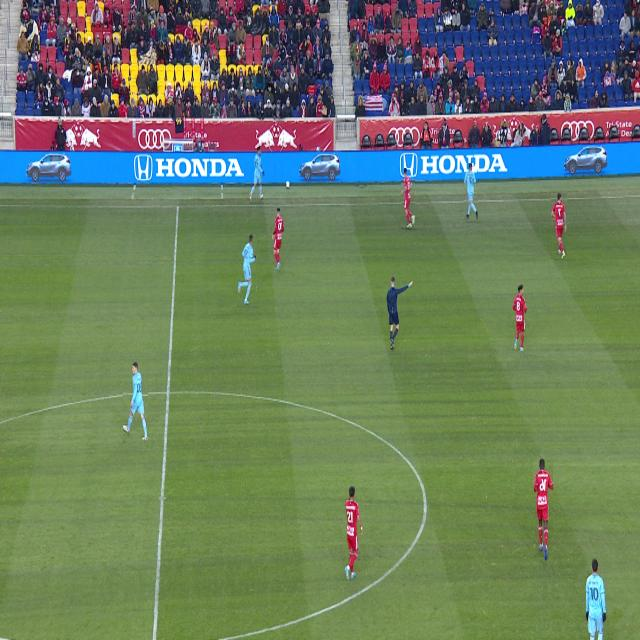player: (123, 362, 148, 441), (534, 459, 553, 561), (344, 487, 363, 581), (586, 558, 606, 640), (238, 234, 256, 304), (551, 193, 567, 259), (513, 285, 527, 351), (464, 163, 478, 220), (402, 168, 415, 229), (272, 208, 284, 270)
referee: (387, 277, 413, 350)
